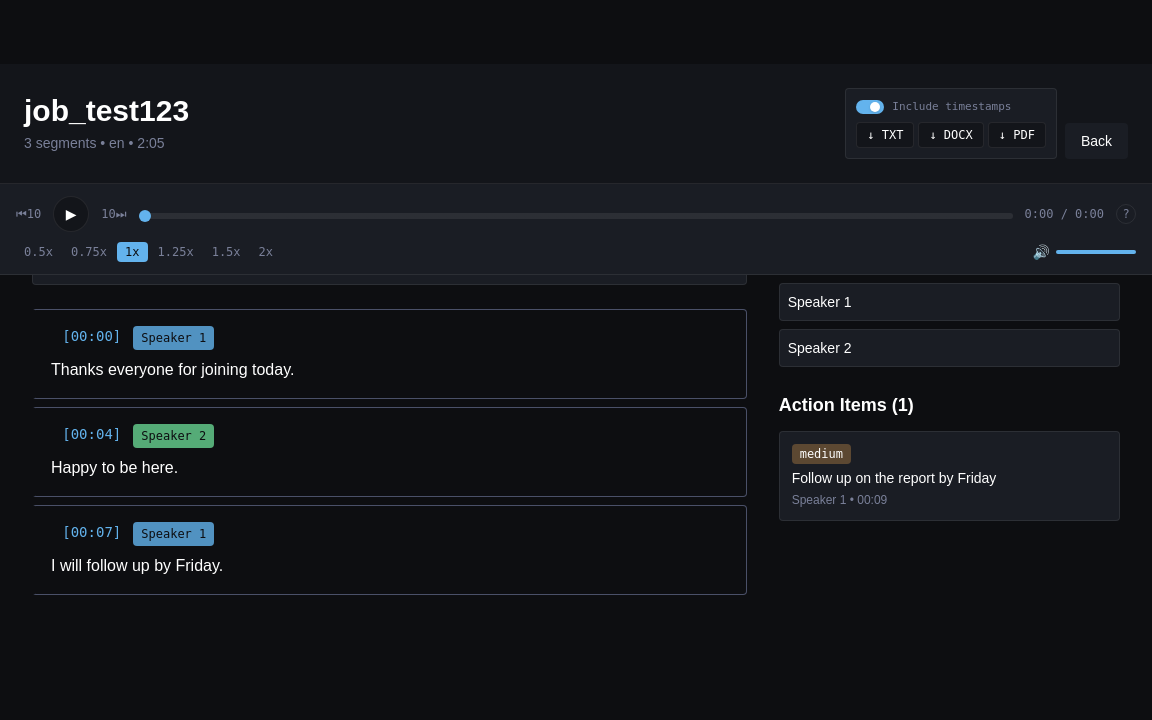
Test: Speaker rename behavior › clicking speaker label enters edit mode
This screenshot has width=1152, height=720.
Click the text with test id "speaker-label" below "Speakers (". click: x=820, y=302
box: [788,294,852,310]
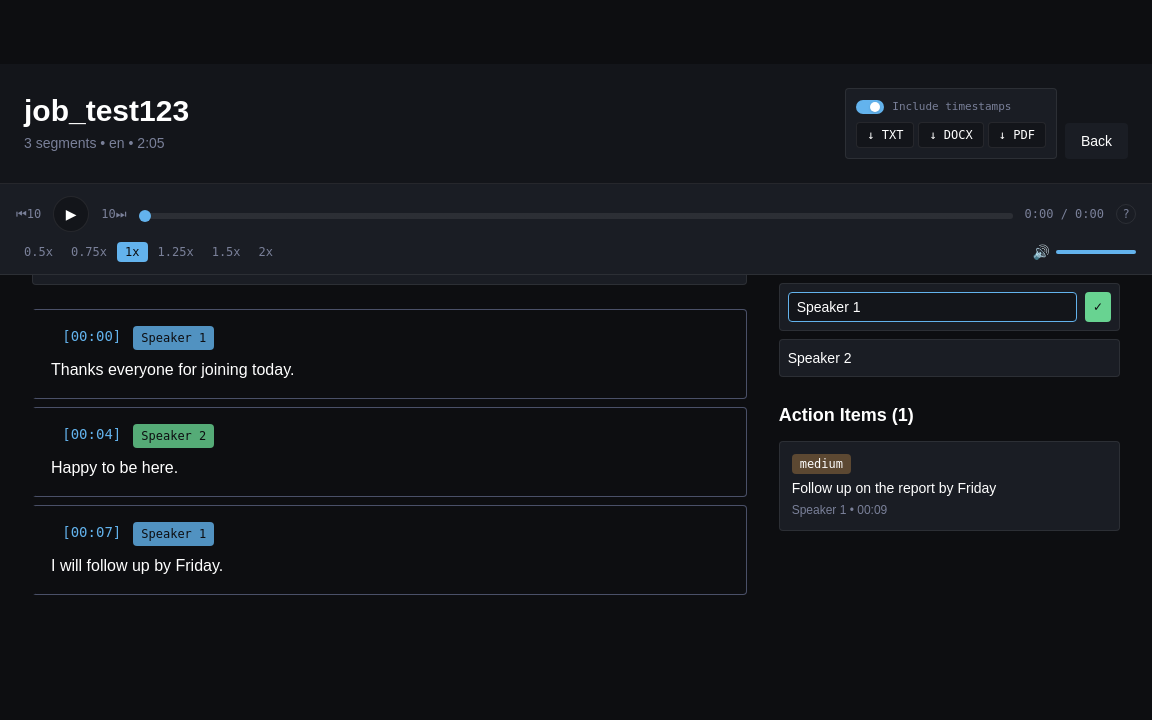
Expected: the field named "rename speaker" is shown, [788,292,1077,322]
